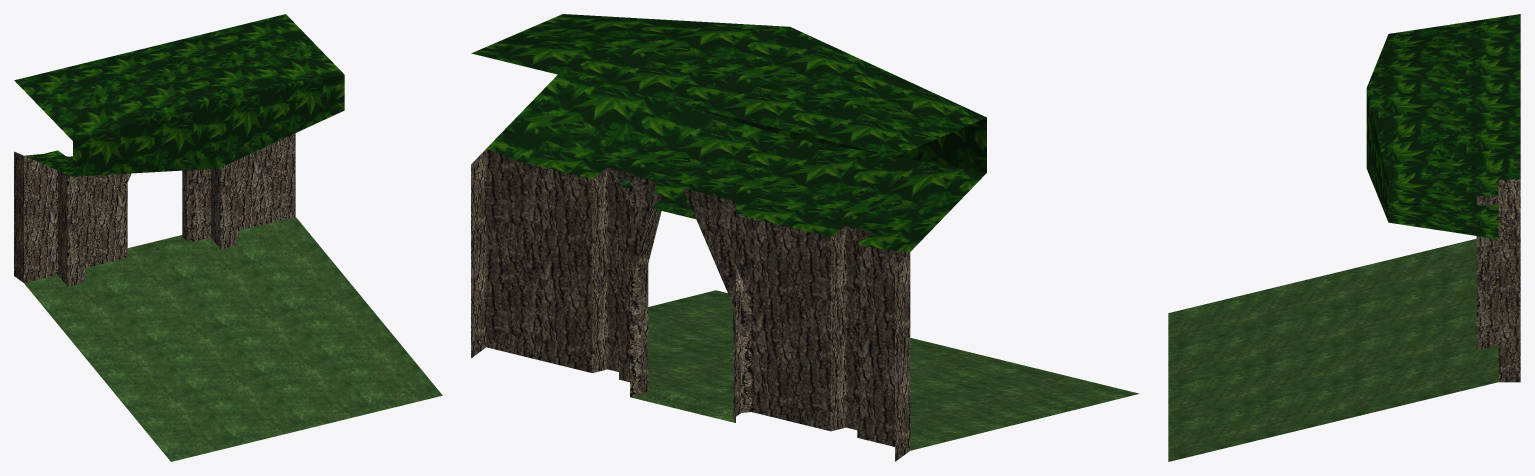
Rendered from woods7TrimCorner.gltf.
3 views of the same model, side by side, from view 1: azimuth 30°, elevation 25°; view 2: azimuth 150°, elevation 25°; view 3: azimuth 270°, elevation 25° (orthographic). The views are drawn at different scales.
Visible parts, largest first — view 1: woods7TrimCorner; view 2: woods7TrimCorner; view 3: woods7TrimCorner.
Boxes of the visible parts, box(x1,y1,x2,y2) form: woods7TrimCorner: box(14, 14, 442, 461); woods7TrimCorner: box(471, 14, 1139, 461); woods7TrimCorner: box(1168, 14, 1520, 461).
Bounding box in the file's own units: 32 × 30 × 32.
Materials: 3 (3 with a texture image).
